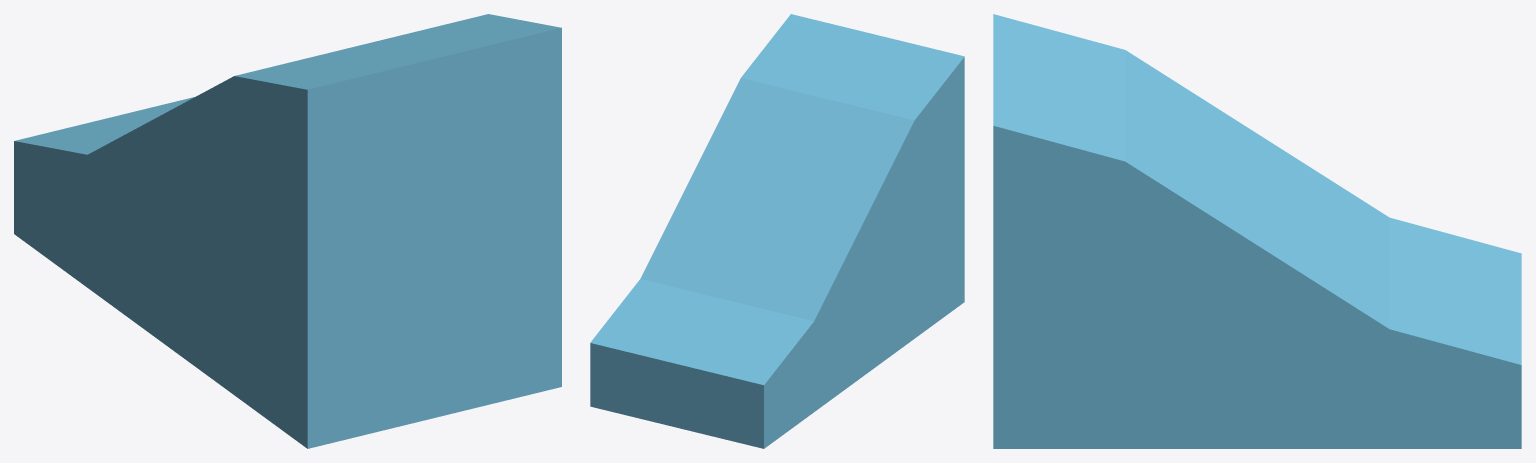
The model's file is Water_Slope.glb.
3 views of the same model, side by side, from view 1: azimuth 30°, elevation 25°; view 2: azimuth 150°, elevation 25°; view 3: azimuth 270°, elevation 25° (orthographic). The views are drawn at different scales.
Visible parts, largest first — view 1: object1; view 2: object1; view 3: object1.
Part boxes in pixels (x1=…): object1: x1=14, y1=14, x2=561, y2=448; object1: x1=590, y1=14, x2=964, y2=448; object1: x1=993, y1=14, x2=1521, y2=448.
Size of the model in its own units: 1 by 1.35 by 2.
